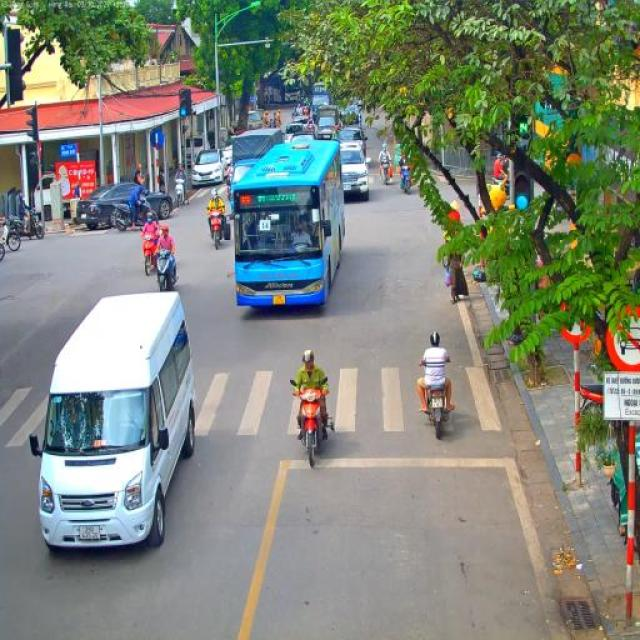bus: (29, 290, 196, 555), (222, 138, 347, 311)
car: (76, 181, 173, 229), (336, 140, 372, 200), (191, 149, 224, 187), (337, 127, 368, 158), (291, 115, 314, 136), (284, 122, 305, 144), (220, 139, 234, 167)
motorcycle: (290, 377, 334, 468), (422, 360, 452, 440), (109, 199, 152, 232), (5, 208, 46, 241), (153, 248, 179, 292), (138, 232, 158, 278), (0, 213, 21, 251), (207, 210, 225, 249), (398, 165, 414, 195), (172, 178, 188, 206), (378, 159, 392, 186), (224, 172, 230, 190), (0, 242, 5, 262)
truck: (230, 128, 286, 202), (310, 80, 330, 120), (316, 105, 336, 141), (339, 102, 362, 128), (242, 110, 262, 130)
